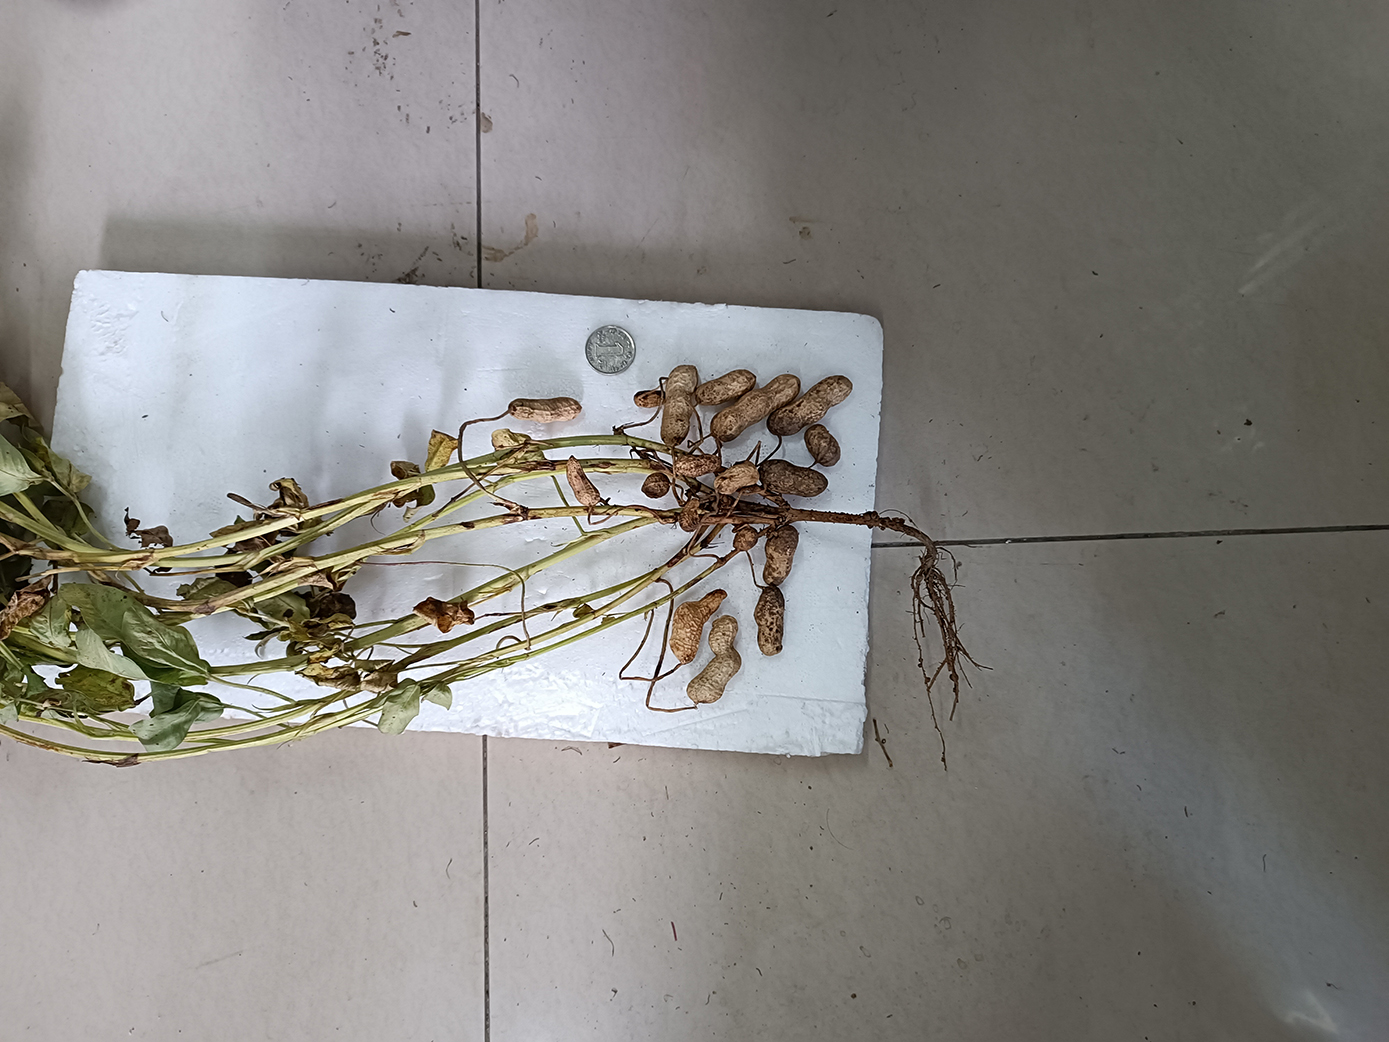h: (711, 375, 802, 440), (767, 375, 850, 436), (688, 616, 740, 704), (669, 590, 729, 664), (660, 364, 698, 445), (696, 369, 759, 405), (763, 526, 800, 586), (509, 397, 582, 425), (566, 456, 601, 511), (806, 426, 841, 466), (714, 464, 757, 493), (674, 455, 721, 479), (634, 390, 669, 408), (681, 499, 698, 533), (734, 525, 756, 552)
l: (761, 460, 827, 497), (754, 588, 784, 655), (641, 474, 669, 499)
